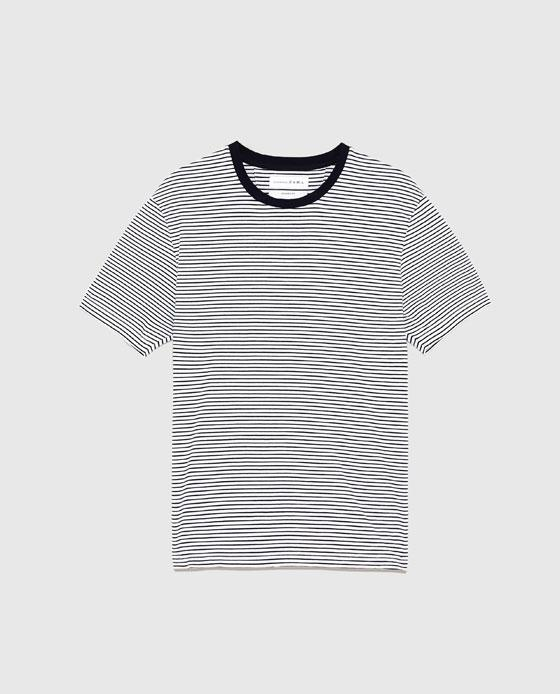teeshirt: (56, 137, 490, 610)
